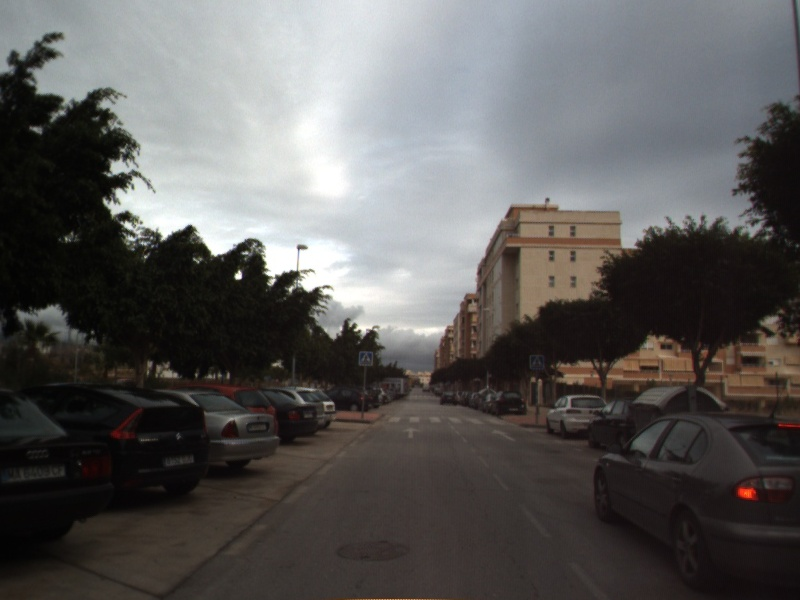STRAIGHT: (490, 427, 518, 443), (401, 425, 423, 440)
